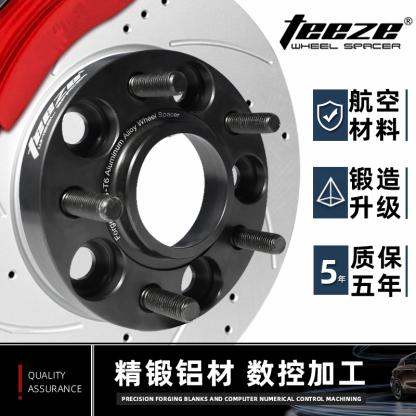FOD: (15, 41, 274, 336)
